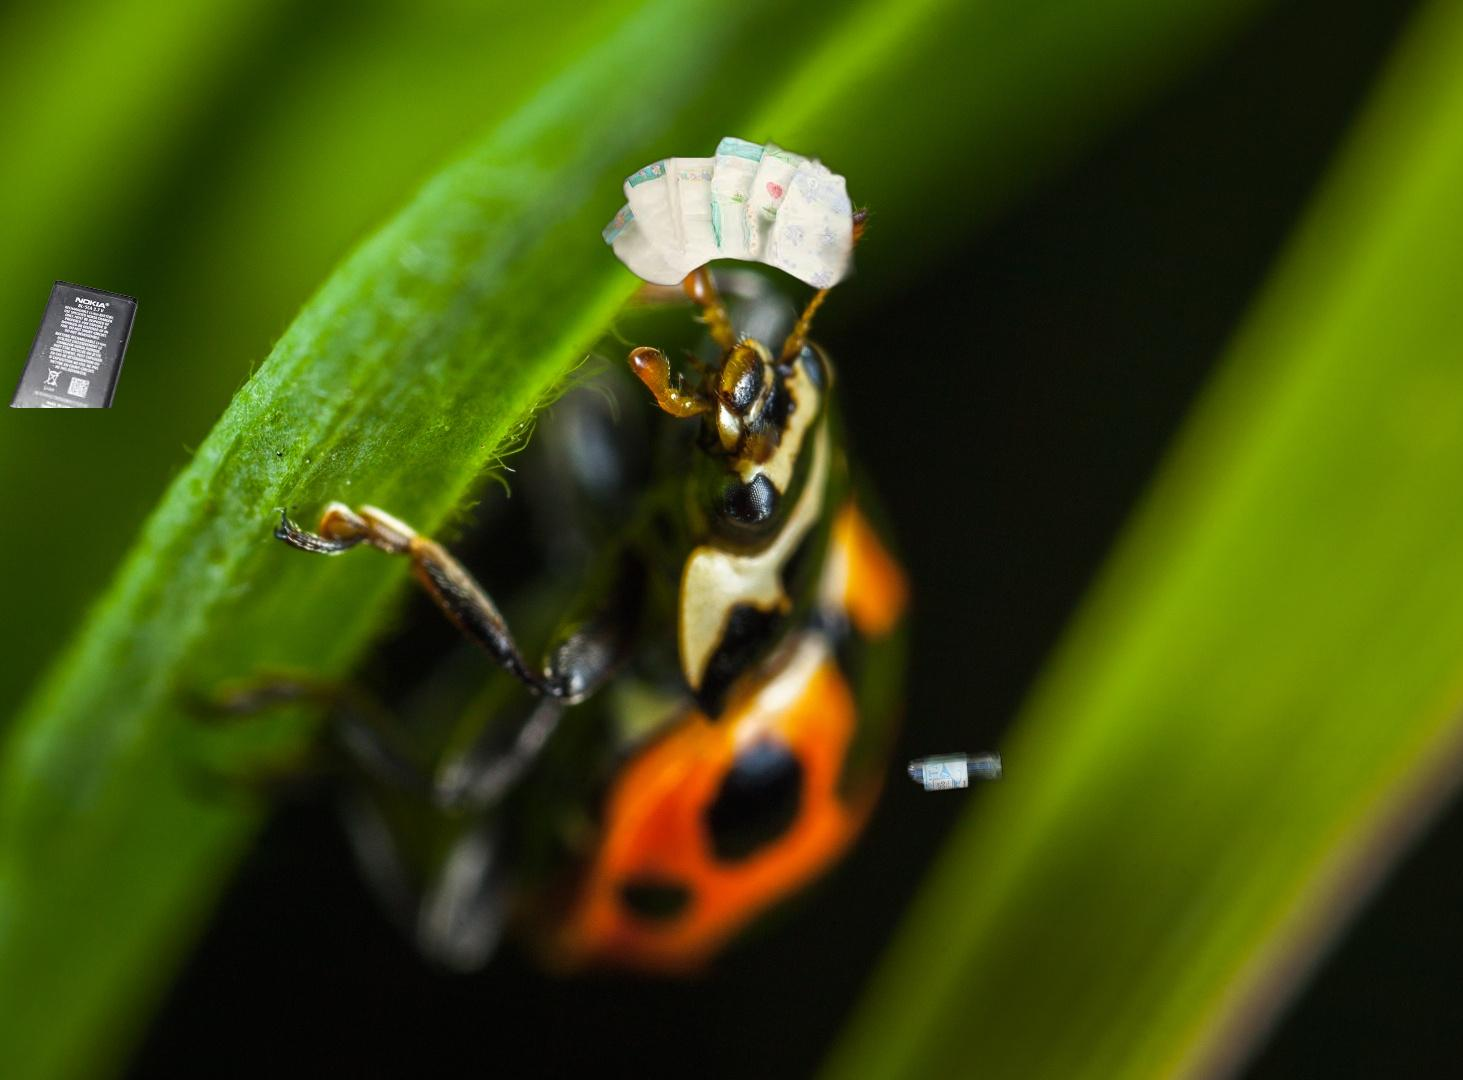battery: (5, 277, 139, 408)
glass: (901, 743, 1026, 807)
trash: (597, 131, 856, 312)
